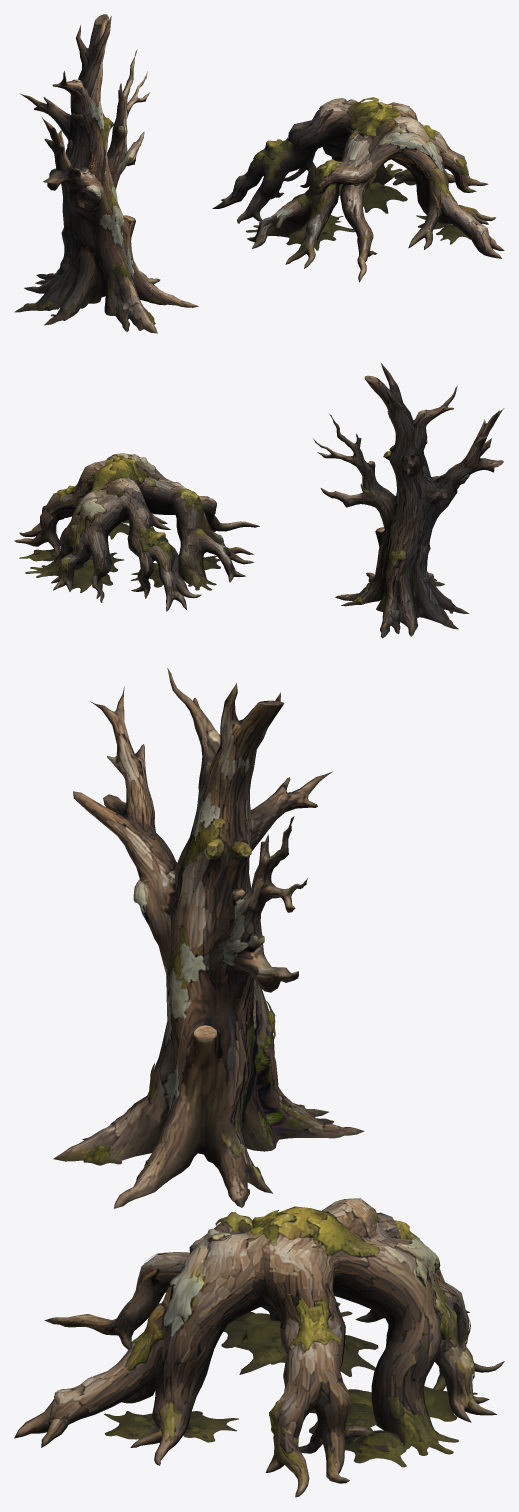
The model's file is act1_kit_v1_R06_dead_tree_roots.glb.
The picture shows the model from 3 angles, top to bottom: view 1: azimuth 30°, elevation 25°; view 2: azimuth 150°, elevation 25°; view 3: azimuth 270°, elevation 25°; orthographic projection. The views are drawn at different scales.
Visible parts, largest first — view 1: tripo_4de70e4a_f8c1_441d_8945_c23a2918b9e1; view 2: tripo_4de70e4a_f8c1_441d_8945_c23a2918b9e1; view 3: tripo_4de70e4a_f8c1_441d_8945_c23a2918b9e1.
Boxes of the visible parts, <box> form: tripo_4de70e4a_f8c1_441d_8945_c23a2918b9e1: <box>14,14,504,333</box>; tripo_4de70e4a_f8c1_441d_8945_c23a2918b9e1: <box>14,363,504,638</box>; tripo_4de70e4a_f8c1_441d_8945_c23a2918b9e1: <box>14,668,504,1497</box>.
Size of the model in its own units: 0.9995 by 0.5435 by 0.4927.
1 material, 1 textured.
